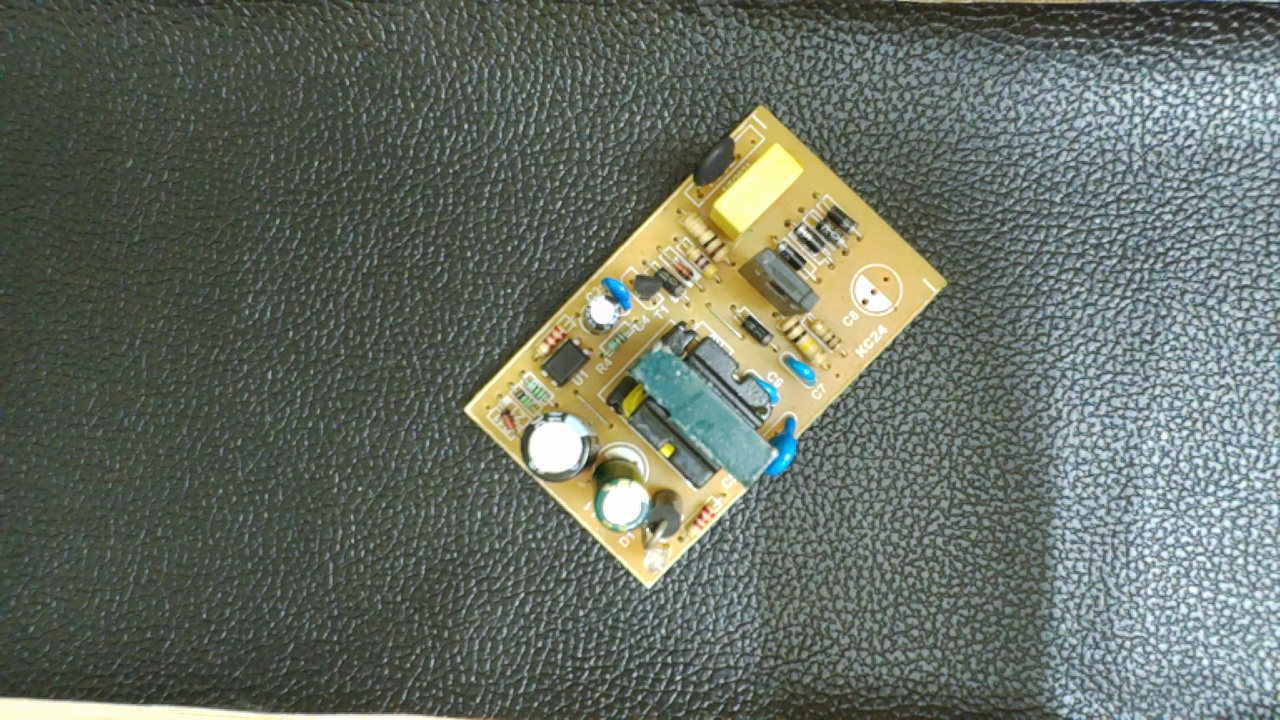fuse: (687, 132, 743, 192)
mov: (761, 407, 806, 485)
optocoupler: (533, 338, 600, 390)
